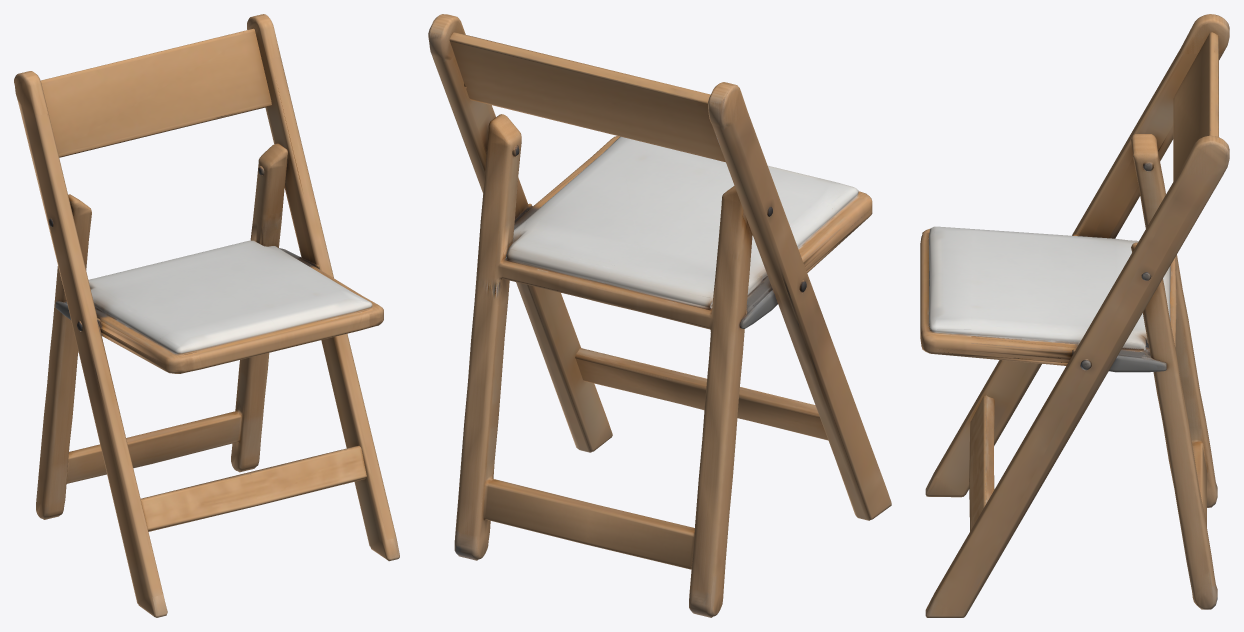
Rendered from Chair_Natural_Wood_F_0320031639_texture.glb.
3 renders of one model, left to right at view 1: azimuth 30°, elevation 25°; view 2: azimuth 150°, elevation 25°; view 3: azimuth 270°, elevation 25°, orthographic. The views are drawn at different scales.
Parts seen in each view (by area): view 1: Mesh_0; view 2: Mesh_0; view 3: Mesh_0.
Boxes of the visible parts, box(x1,y1,x2,y2) form: Mesh_0: box(14, 14, 399, 617); Mesh_0: box(428, 14, 891, 617); Mesh_0: box(920, 14, 1229, 617).
Size of the model in its own units: 0.5325 by 0.9144 by 0.5362.
1 material, 1 textured.
